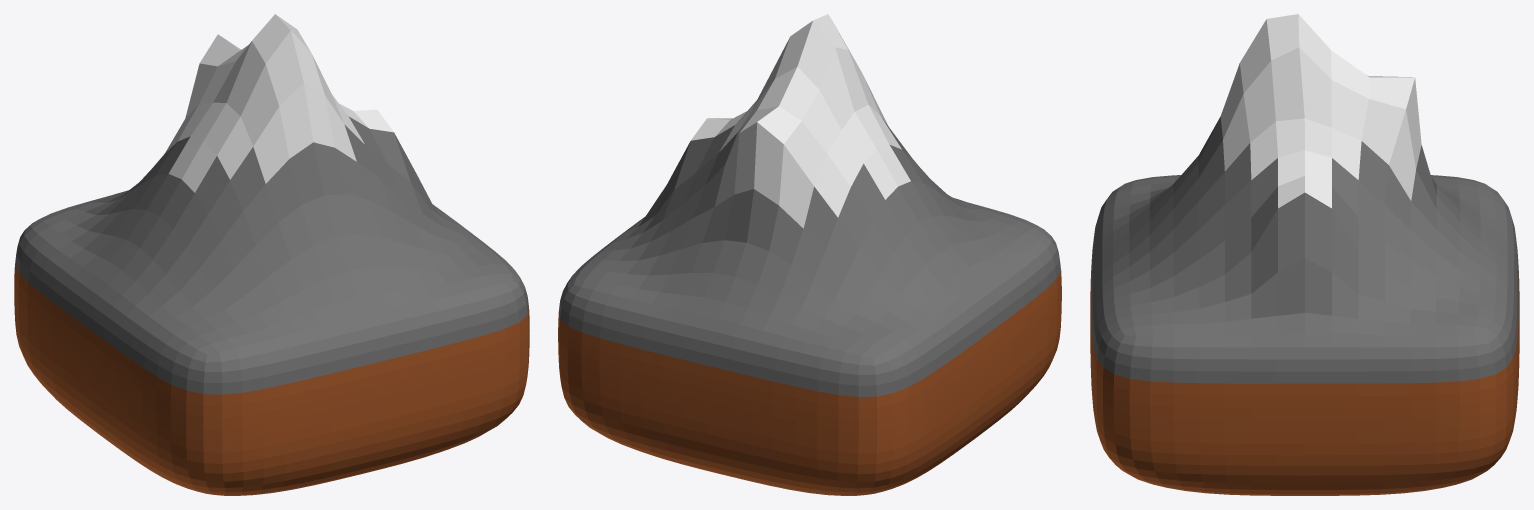
Rendered from platformMontagne.fbx.
3 renders of one model, left to right at view 1: azimuth 30°, elevation 25°; view 2: azimuth 150°, elevation 25°; view 3: azimuth 270°, elevation 25°, orthographic. The views are drawn at different scales.
Parts seen in each view (by area): view 1: montagne blockage; view 2: montagne blockage; view 3: montagne blockage.
Part boxes in pixels (x1,y1,x2,y2): montagne blockage: (14, 14, 529, 495); montagne blockage: (558, 14, 1061, 495); montagne blockage: (1090, 14, 1519, 495).
Size of the model in its own units: 200 by 217 by 200.
